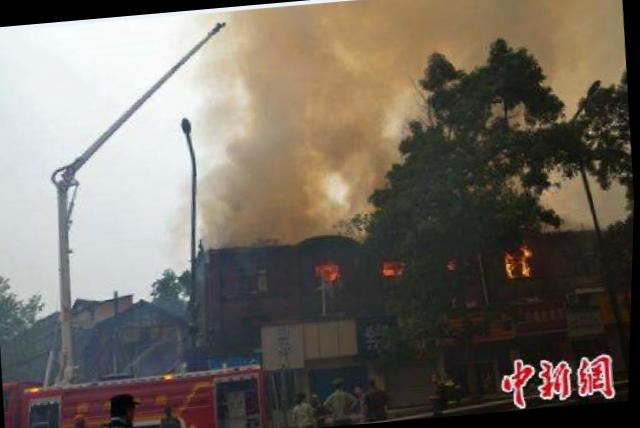fire: (520, 243, 534, 275), (315, 261, 340, 278), (505, 249, 517, 277), (383, 258, 402, 273)
smoke: (186, 58, 374, 250), (237, 0, 626, 64)
